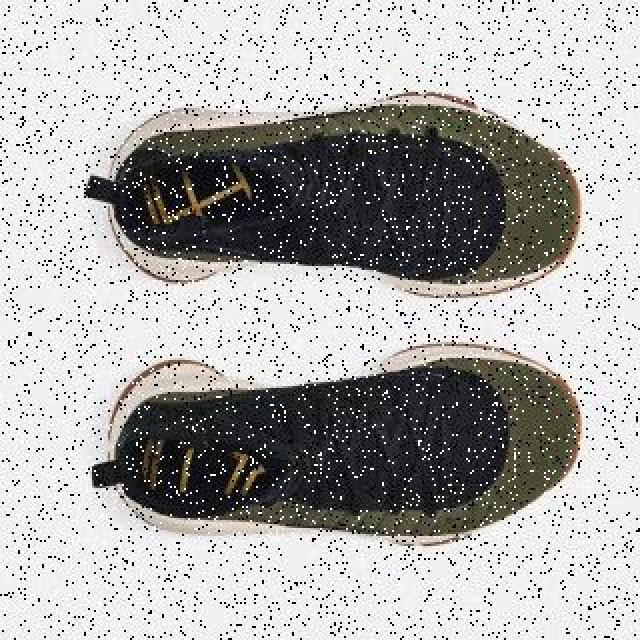shoe: (92, 334, 584, 550), (101, 91, 581, 299)
